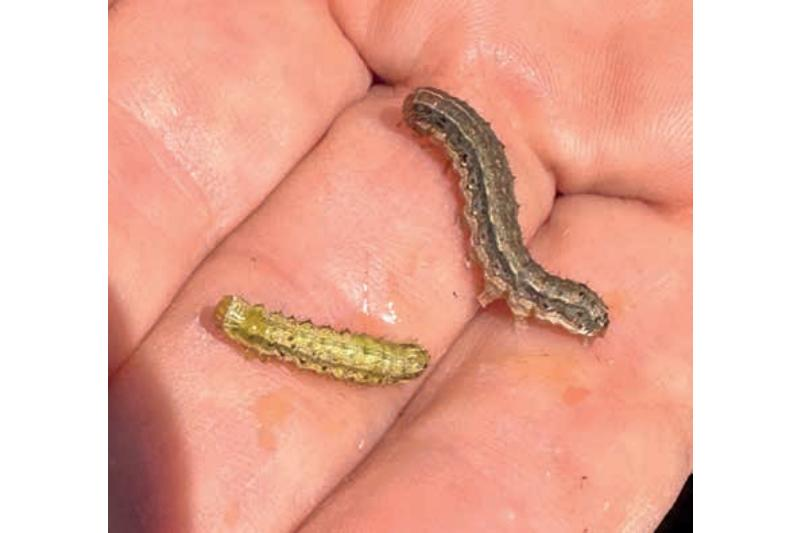fall-armyworm: (402, 89, 611, 341), (212, 297, 430, 388)
